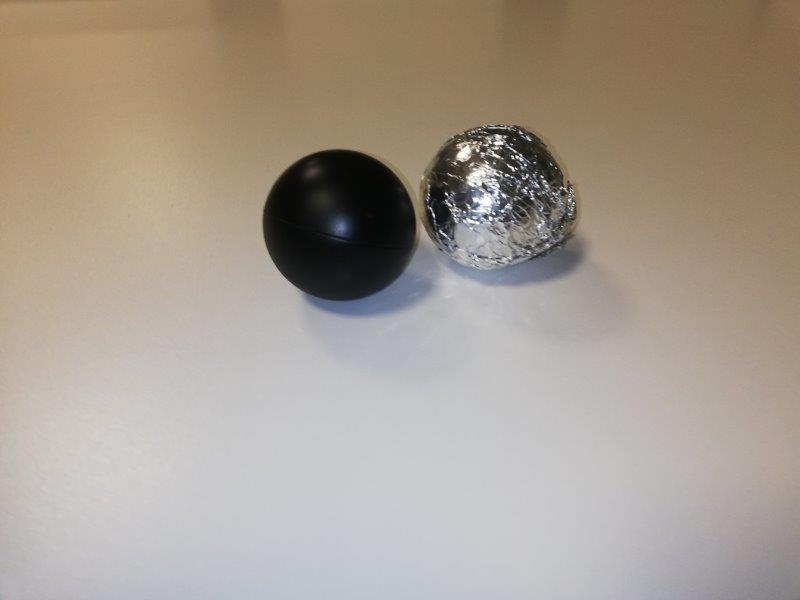bianca: (417, 121, 582, 272)
nera: (261, 145, 414, 299)
